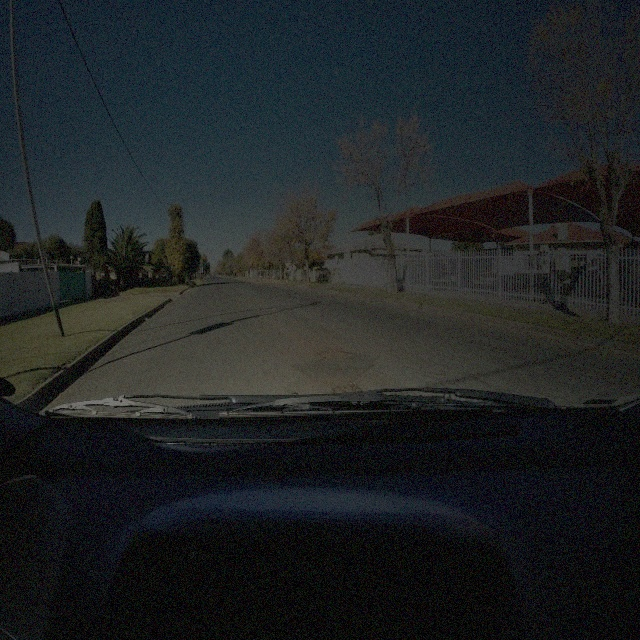pothole: (314, 344, 358, 362), (328, 378, 359, 392)
